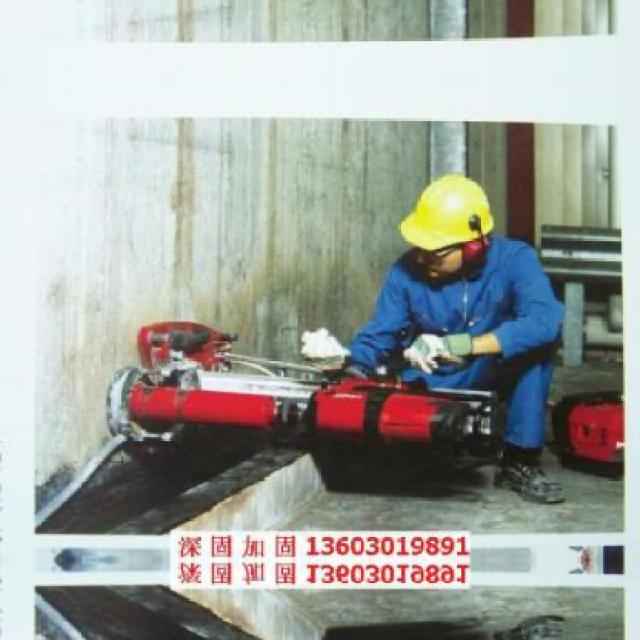helmet: (394, 166, 500, 283)
